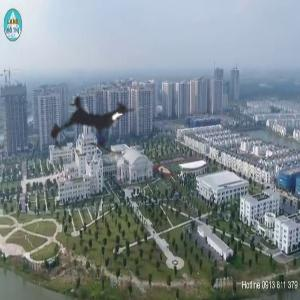drone: (22, 56, 166, 200)
